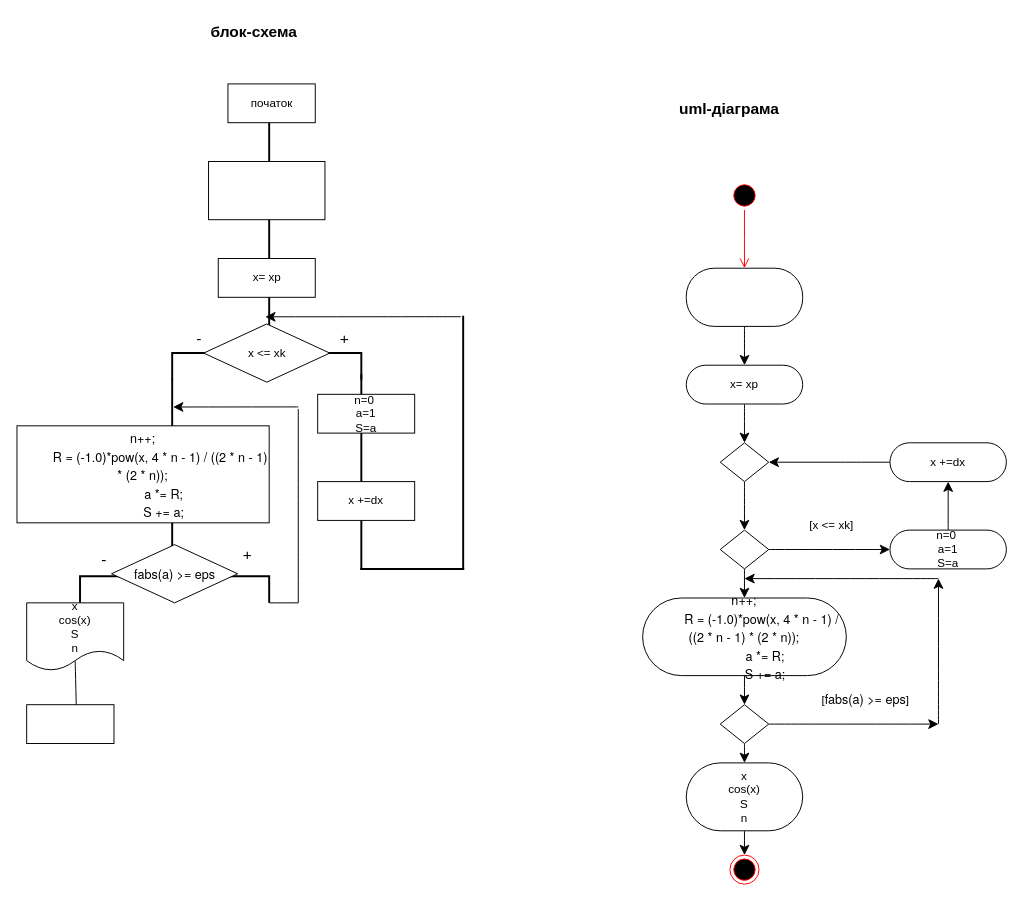
The diagram is 1023 pixels wide and 901 high, and some of its shapes have lost their labels. Each missing label, with the centre of its shape:
"xp, xk, ,dx, eps" belongs at (x=744, y=296).
"ввід xp, xk, dx, eps" belongs at (x=266, y=190).
"кінець" belongs at (x=70, y=724).
